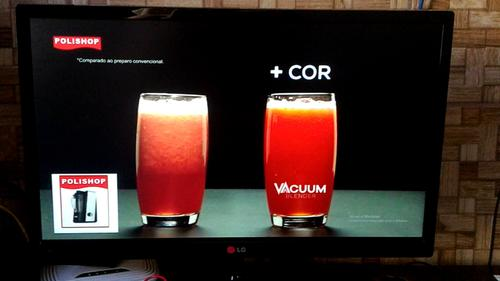Polishop #1: (52, 172, 119, 233)
